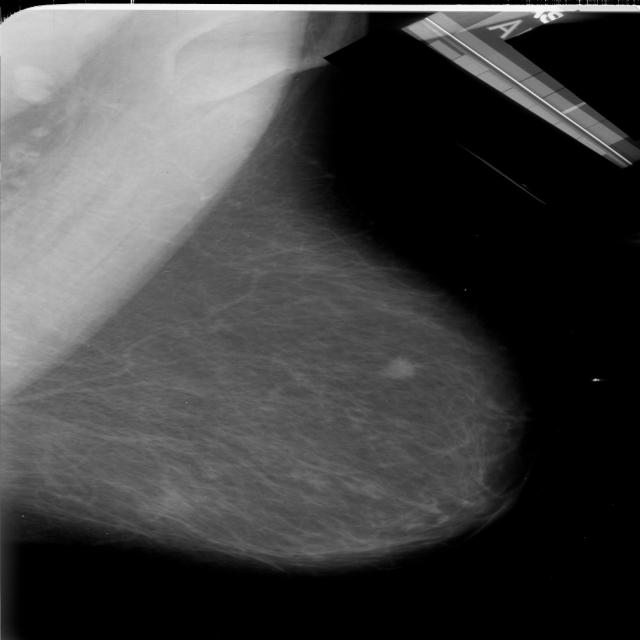normal: (0, 15, 509, 569)
